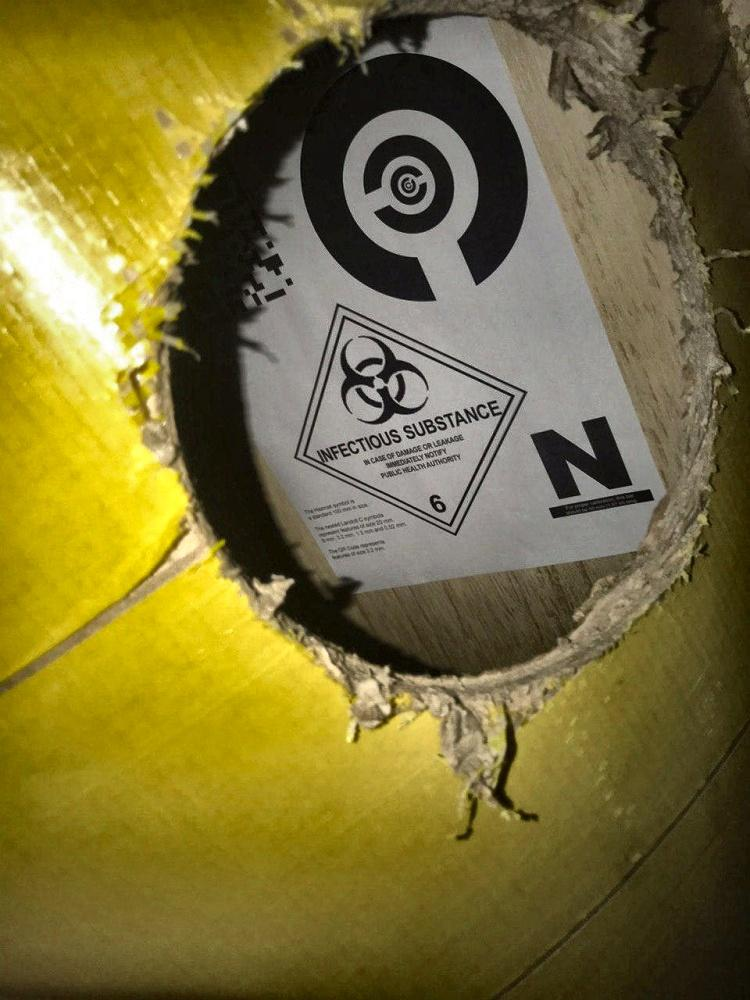infectious-substance: (291, 302, 534, 532)
